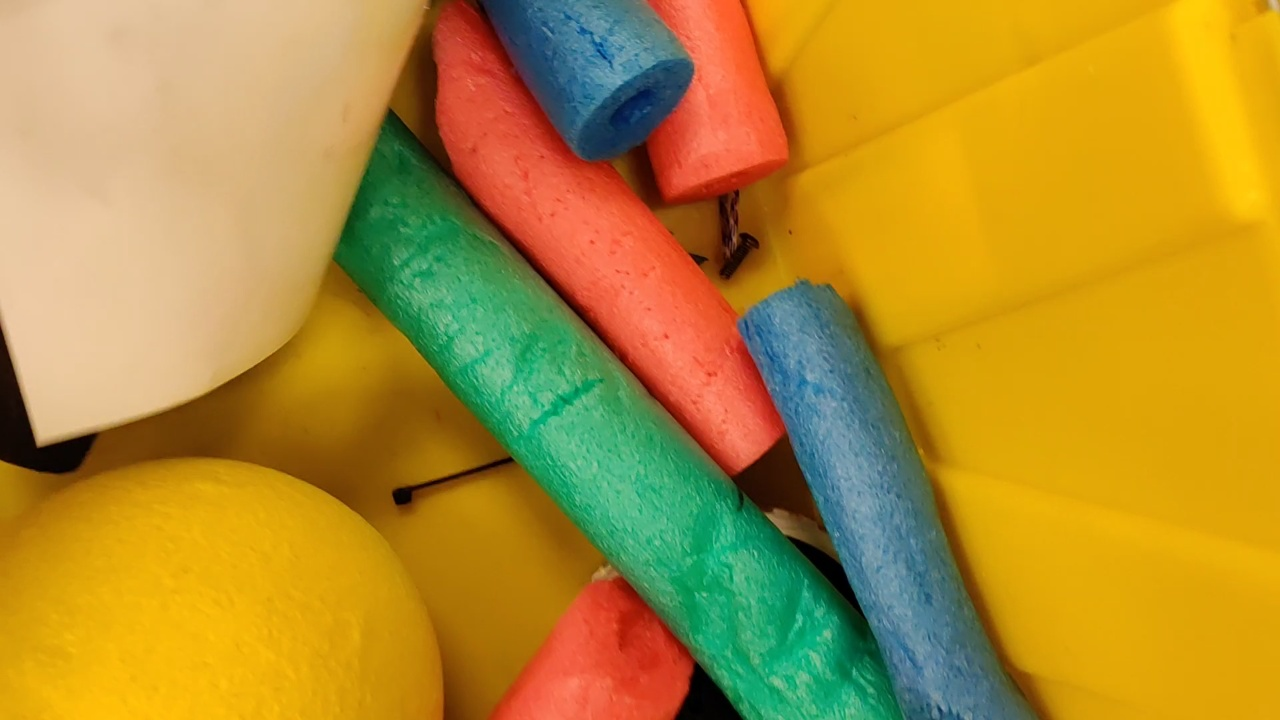Ball: (2, 457, 443, 720)
